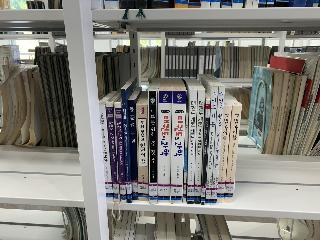book-spine: (169, 91, 186, 204), (223, 105, 242, 203), (210, 86, 225, 207), (157, 91, 172, 203), (98, 104, 114, 203), (216, 105, 232, 204), (205, 86, 218, 205), (105, 100, 120, 202), (193, 89, 206, 204), (114, 102, 127, 204), (136, 105, 149, 202), (187, 90, 198, 204), (200, 100, 211, 205), (121, 89, 131, 203), (148, 90, 158, 204), (128, 100, 138, 200), (183, 113, 189, 203)
